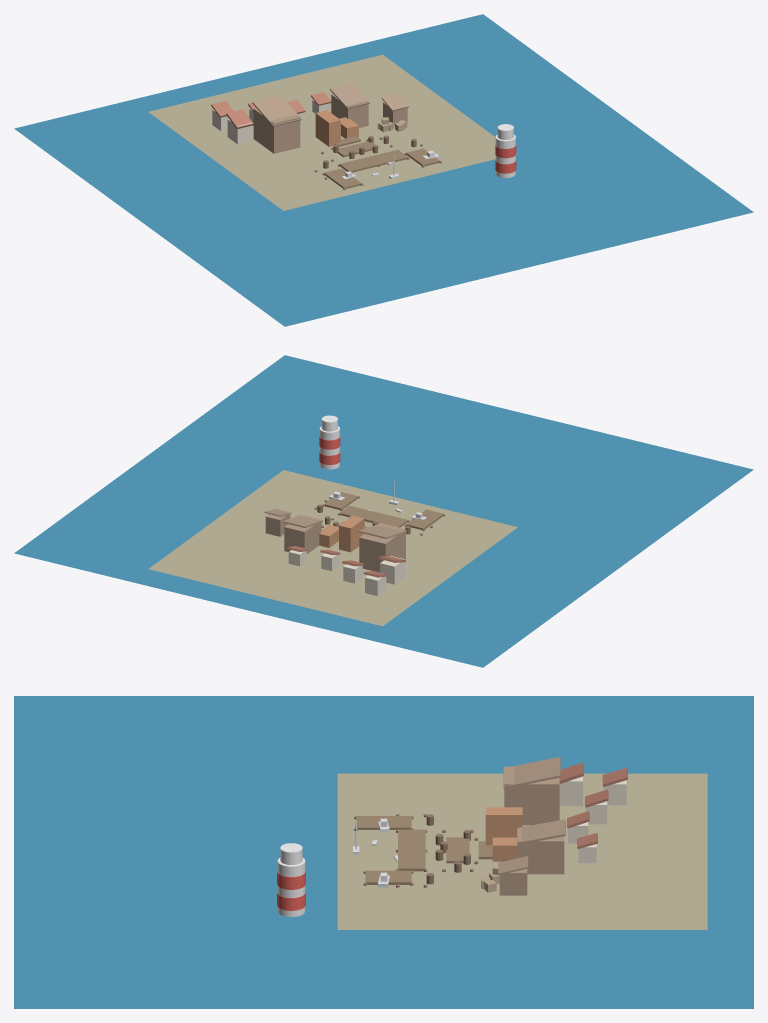
The model's file is FishingVillage.glb.
3 views of the same model, one above another, from view 1: azimuth 30°, elevation 25°; view 2: azimuth 150°, elevation 25°; view 3: azimuth 270°, elevation 25° (orthographic). The views are drawn at different scales.
Visible parts, largest first — view 1: Ocean, Coastal_Land, Large_Warehouse, Large_Warehouse_Roof, Main_Pier, Medium_Warehouse, Medium_Warehouse_Roof; view 2: Ocean, Coastal_Land, Large_Warehouse, Medium_Warehouse, Main_Pier; view 3: Ocean, Coastal_Land, Large_Warehouse, Medium_Warehouse, Main_Pier, Large_Warehouse_Roof, Container_2, Lighthouse_Tower, Medium_Warehouse_Roof, Storage_Shed, Left_Dock, House_1 (+3 smaller).
Part boxes in pixels (box(x1,y1,x2,y2)): Ocean: box(14, 14, 753, 326); Coastal_Land: box(148, 54, 517, 210); Large_Warehouse: box(253, 108, 300, 153); Large_Warehouse_Roof: box(252, 95, 301, 126); Main_Pier: box(339, 150, 408, 172); Medium_Warehouse: box(331, 94, 368, 127); Medium_Warehouse_Roof: box(330, 83, 369, 109); Ocean: box(14, 355, 753, 667); Coastal_Land: box(148, 470, 517, 626); Large_Warehouse: box(359, 522, 405, 572); Medium_Warehouse: box(284, 514, 321, 554); Main_Pier: box(339, 505, 408, 527); Ocean: box(14, 696, 753, 1008); Coastal_Land: box(337, 773, 707, 929); Large_Warehouse: box(504, 766, 559, 825); Medium_Warehouse: box(518, 827, 564, 874); Main_Pier: box(398, 829, 425, 871); Large_Warehouse_Roof: box(503, 757, 560, 788); Container_2: box(485, 807, 522, 831); Lighthouse_Tower: box(277, 857, 305, 916); Medium_Warehouse_Roof: box(517, 819, 565, 844); Storage_Shed: box(499, 869, 527, 895); Left_Dock: box(356, 816, 411, 829); House_1: box(559, 776, 582, 805).
Size of the model in its own units: 80 by 9.25 by 80.
